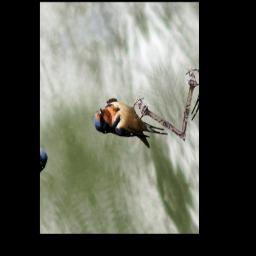Swallow: (88, 76, 169, 169)
